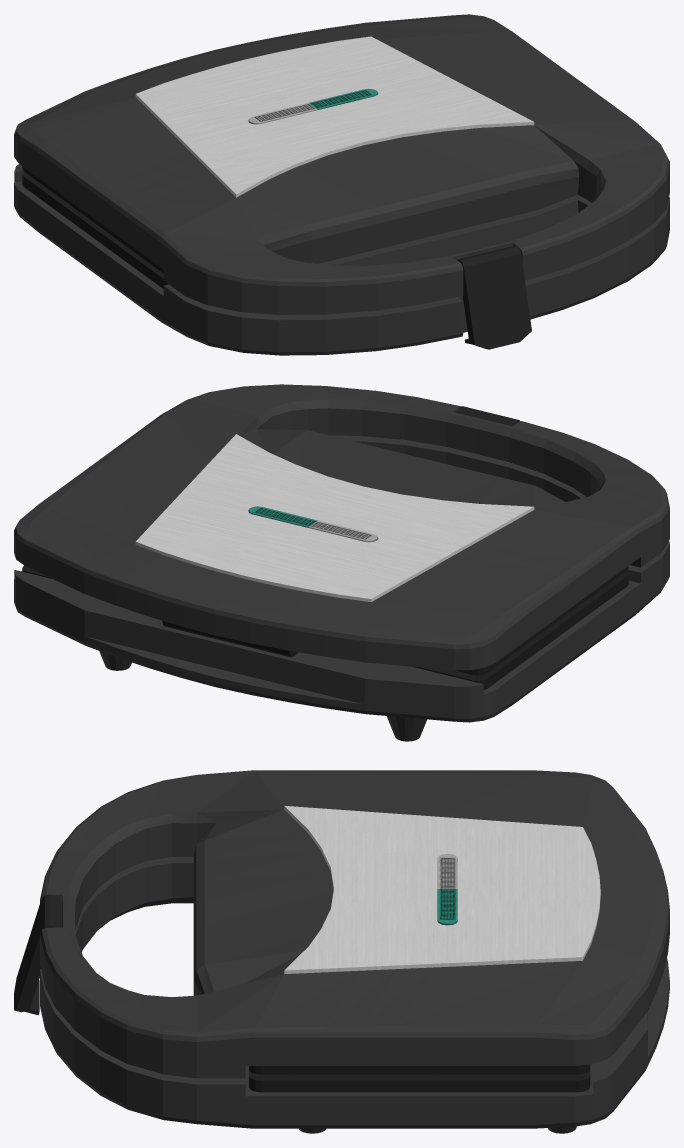
Rendered from sweethome3d-scopia-sandwich-maker.glb.
3 views of the same model, one above another, from view 1: azimuth 30°, elevation 25°; view 2: azimuth 150°, elevation 25°; view 3: azimuth 270°, elevation 25° (orthographic). The views are drawn at different scales.
Parts seen in each view (by area): view 1: sweethome3d_opening_on_hinge_1_Top, lowBase_Cube.004, sweethome3d_opening_on_hinge_1_closePiece_sweethome3d_openin, grill_Plane, sweethome3d_opening_on_hinge_1_light, sweethome3d_opening_on_hinge_1_grillSup; view 2: sweethome3d_opening_on_hinge_1_Top, lowBase_Cube.004, grill_Plane, sweethome3d_opening_on_hinge_1_light, littleLegs_Cylinder.003, sweethome3d_opening_on_hinge_1_grillSup; view 3: sweethome3d_opening_on_hinge_1_Top, lowBase_Cube.004, grill_Plane, sweethome3d_opening_on_hinge_1_grillSup, sweethome3d_opening_on_hinge_1_closePiece_sweethome3d_openin, sweethome3d_opening_on_hinge_1_light.
Boxes of the visible parts, <box> form: sweethome3d_opening_on_hinge_1_Top: <box>14,14,669,314</box>; lowBase_Cube.004: <box>14,164,669,355</box>; sweethome3d_opening_on_hinge_1_closePiece_sweethome3d_openin: <box>457,246,531,349</box>; grill_Plane: <box>22,172,168,288</box>; sweethome3d_opening_on_hinge_1_light: <box>248,88,377,124</box>; sweethome3d_opening_on_hinge_1_grillSup: <box>22,166,163,273</box>; sweethome3d_opening_on_hinge_1_Top: <box>14,384,669,670</box>; lowBase_Cube.004: <box>14,435,669,722</box>; grill_Plane: <box>22,565,628,689</box>; sweethome3d_opening_on_hinge_1_light: <box>248,506,377,542</box>; littleLegs_Cylinder.003: <box>99,651,426,741</box>; sweethome3d_opening_on_hinge_1_grillSup: <box>455,566,628,675</box>; sweethome3d_opening_on_hinge_1_Top: <box>40,770,669,1078</box>; lowBase_Cube.004: <box>40,857,669,1128</box>; grill_Plane: <box>249,1069,590,1092</box>; sweethome3d_opening_on_hinge_1_grillSup: <box>249,1064,590,1074</box>; sweethome3d_opening_on_hinge_1_closePiece_sweethome3d_openin: <box>14,894,62,1015</box>; sweethome3d_opening_on_hinge_1_light: <box>437,854,457,925</box>.
Bounding box in the file's own units: 24 × 6.77 × 25.22.
5 materials, 2 textured.
